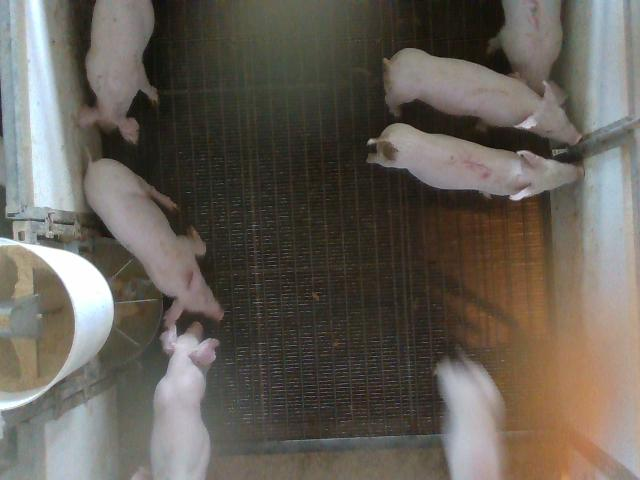pig-5: (368, 124, 582, 200)
